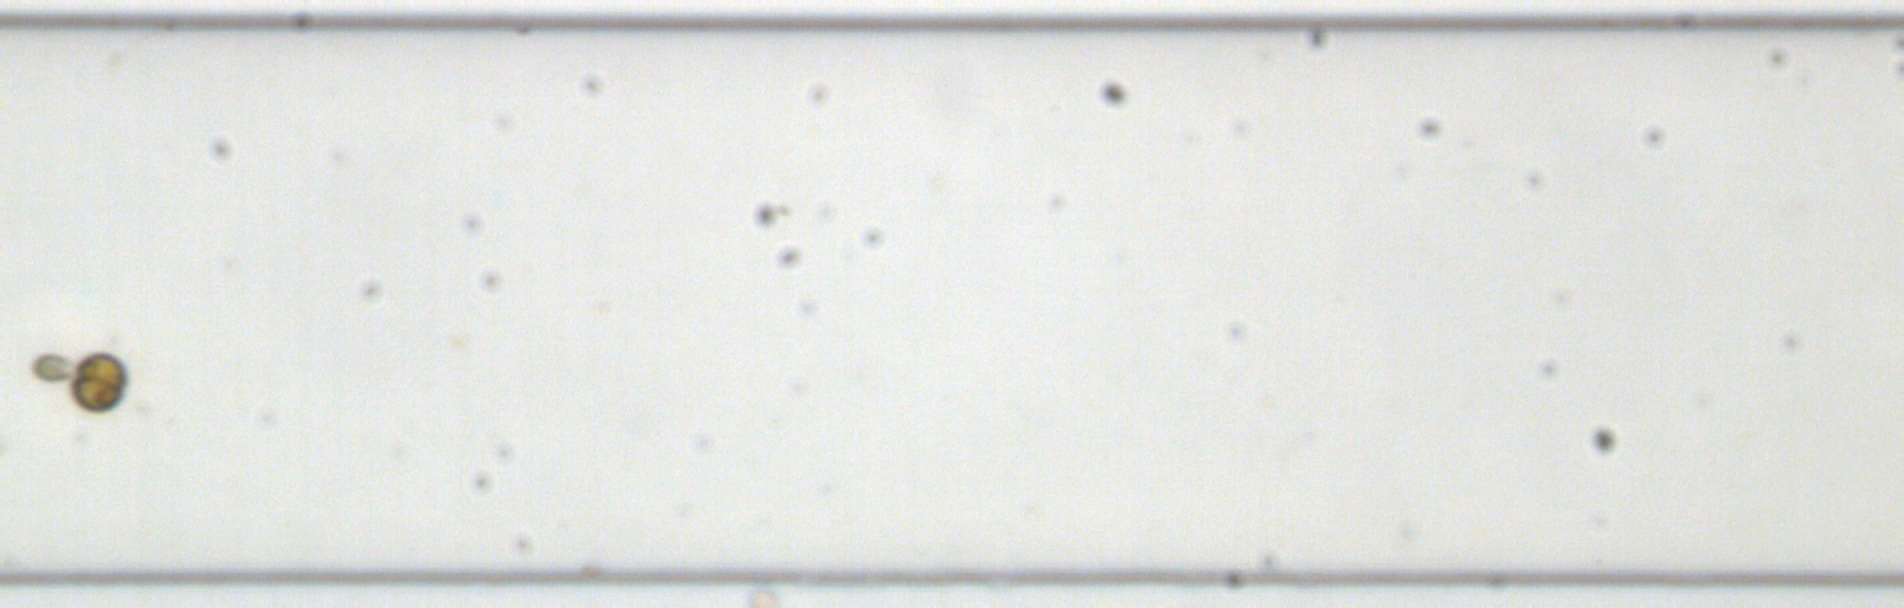Dunaliella salina: (29, 353, 72, 382)
Effrenium: (68, 350, 131, 414)
